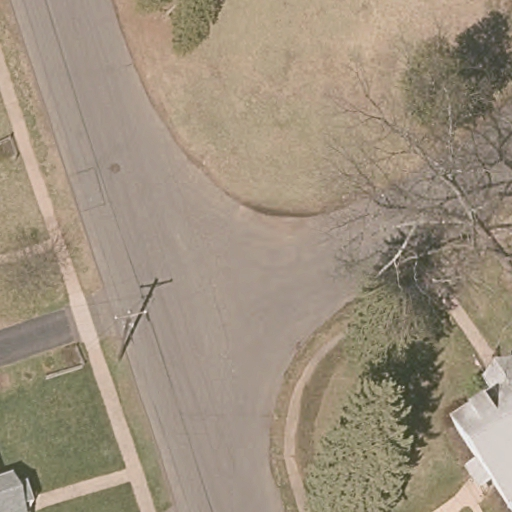DT: (114, 309, 148, 362)
